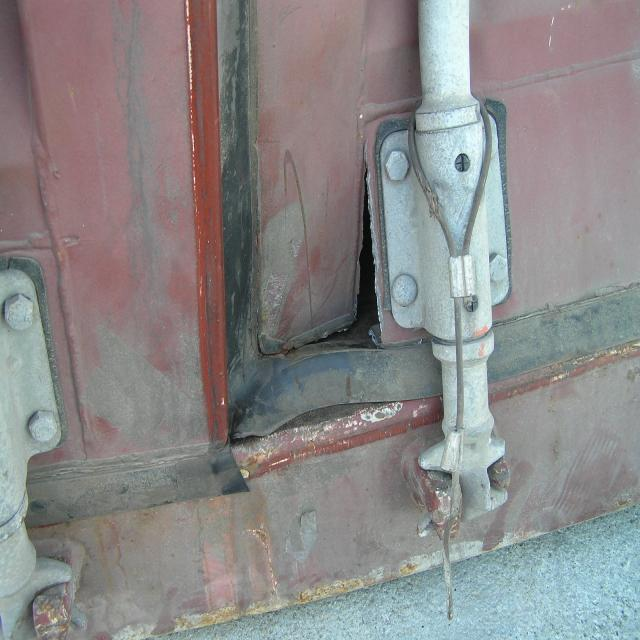hole: (346, 132, 390, 348), (258, 318, 358, 365)
